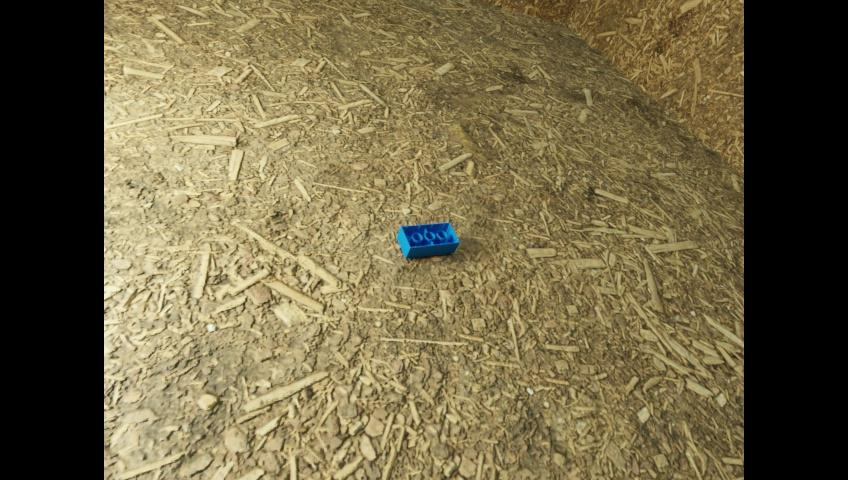4x2_blue: (396, 222, 459, 258)
